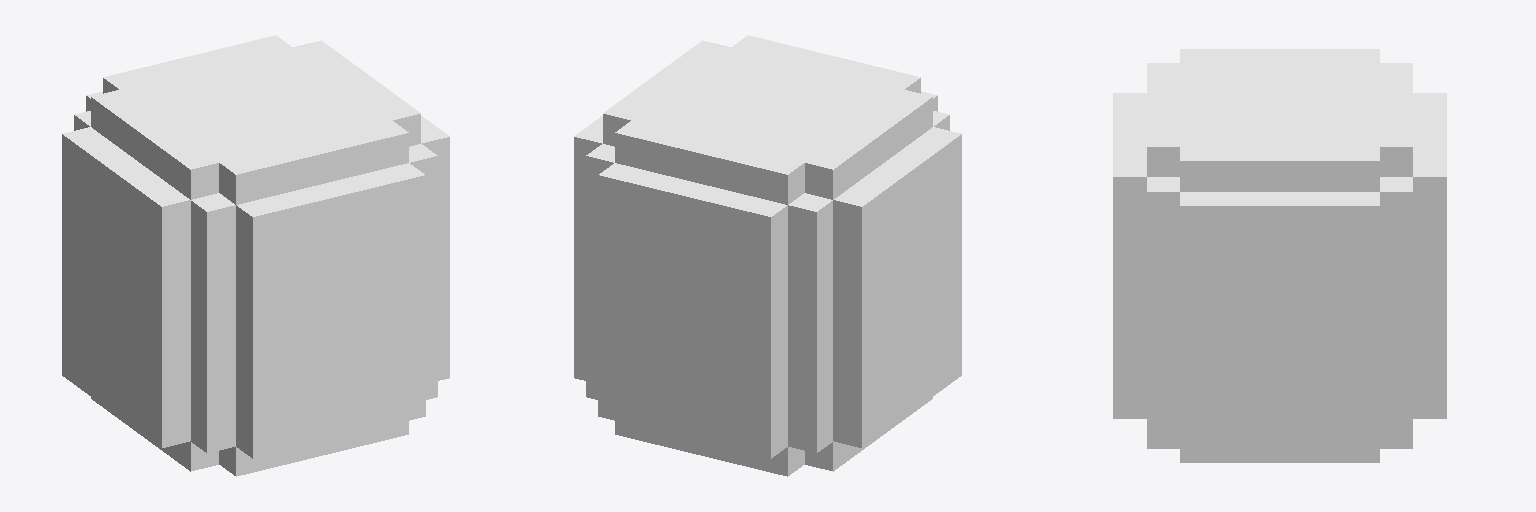
Rendered from Yellow_Exp.obj.
3 views of the same model, side by side, from view 1: azimuth 30°, elevation 25°; view 2: azimuth 150°, elevation 25°; view 3: azimuth 270°, elevation 25° (orthographic).
Visible parts, largest first — view 1: object 1; view 2: object 1; view 3: object 1.
Part boxes in pixels (left/top/right/bottom): object 1: left=62, top=35, right=449, bottom=476; object 1: left=574, top=35, right=961, bottom=476; object 1: left=1113, top=49, right=1446, bottom=462.
Size of the model in its own units: 1 by 1 by 1.